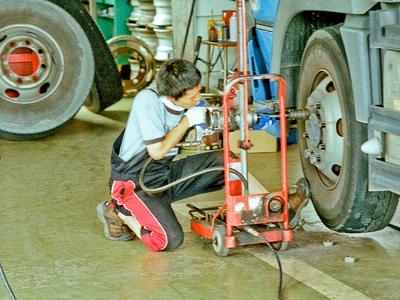person: (96, 60, 237, 253)
